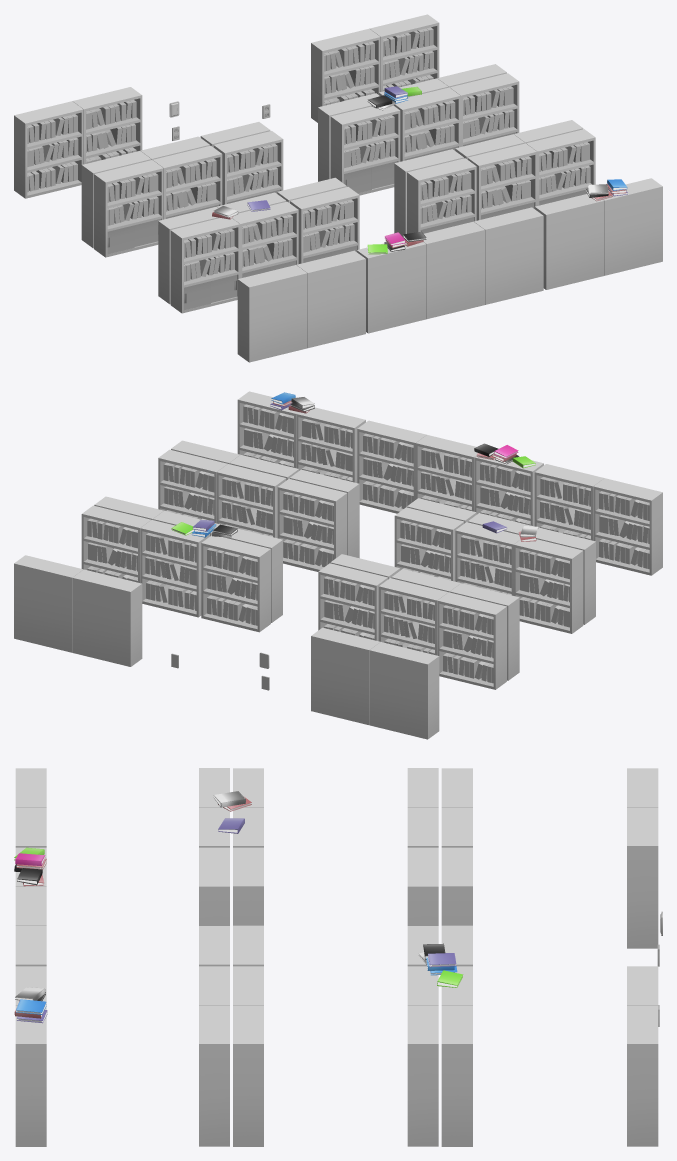
Rendered from Room01Set1.FBX.
3 views of the same model, one above another, from view 1: azimuth 30°, elevation 25°; view 2: azimuth 150°, elevation 25°; view 3: azimuth 270°, elevation 25° (orthographic). The views are drawn at different scales.
Visible parts, largest first — view 1: bookshelf009, bookshelf011, bookshelf010, bookshelf015, bookshelf014, bookshelf012, bookshelf013, bookshelf003, bookshelf025, bookshelf037, Books003, bookshelf001 (+44 smaller); view 2: bookshelf001, bookshelf003, bookshelf002, bookshelf, bookshelf033, bookshelf028, bookshelf009, bookshelf016, bookshelf021, Books025, Books004, Books028 (+41 smaller); view 3: bookshelf, bookshelf031, bookshelf034, bookshelf002, bookshelf019, bookshelf022, bookshelf012, bookshelf032, bookshelf039, bookshelf020, bookshelf027, bookshelf015 (+22 smaller).
Boxes of the visible parts, x1=… form: bookshelf009: x1=237, y1=265, x2=307, y2=362; bookshelf011: x1=534, y1=194, x2=604, y2=289; bookshelf010: x1=296, y1=250, x2=365, y2=348; bookshelf015: x1=474, y1=207, x2=543, y2=304; bookshelf014: x1=423, y1=221, x2=484, y2=319; bookshelf012: x1=603, y1=178, x2=662, y2=275; bookshelf013: x1=356, y1=242, x2=426, y2=333; bookshelf003: x1=14, y1=101, x2=83, y2=198; bookshelf025: x1=170, y1=218, x2=240, y2=313; bookshelf037: x1=94, y1=160, x2=163, y2=257; Books003: x1=27, y1=114, x2=78, y2=192; bookshelf001: x1=311, y1=28, x2=380, y2=122; bookshelf001: x1=72, y1=569, x2=142, y2=666; bookshelf003: x1=369, y1=642, x2=439, y2=739; bookshelf002: x1=311, y1=627, x2=380, y2=725; bookshelf: x1=14, y1=555, x2=83, y2=652; bookshelf033: x1=201, y1=535, x2=270, y2=632; bookshelf028: x1=437, y1=592, x2=506, y2=689; bookshelf009: x1=593, y1=478, x2=662, y2=575; bookshelf016: x1=513, y1=539, x2=583, y2=633; bookshelf021: x1=277, y1=479, x2=347, y2=571; Books025: x1=145, y1=533, x2=196, y2=610; Books004: x1=599, y1=491, x2=649, y2=569; Books028: x1=207, y1=547, x2=257, y2=625; bookshelf: x1=627, y1=1005, x2=658, y2=1146; bookshelf031: x1=441, y1=1005, x2=472, y2=1146; bookshelf034: x1=407, y1=1005, x2=438, y2=1146; bookshelf002: x1=627, y1=807, x2=658, y2=948; bookshelf019: x1=233, y1=1005, x2=263, y2=1146; bookshelf022: x1=199, y1=1005, x2=229, y2=1146; bookshelf012: x1=15, y1=1005, x2=46, y2=1146; bookshelf032: x1=441, y1=847, x2=472, y2=925; bookshelf039: x1=407, y1=847, x2=438, y2=925; bookshelf020: x1=233, y1=847, x2=263, y2=925; bookshelf027: x1=199, y1=847, x2=229, y2=925; bookshelf015: x1=15, y1=925, x2=46, y2=966.
Bounding box in the file's own units: 120 × 23.39 × 119.
